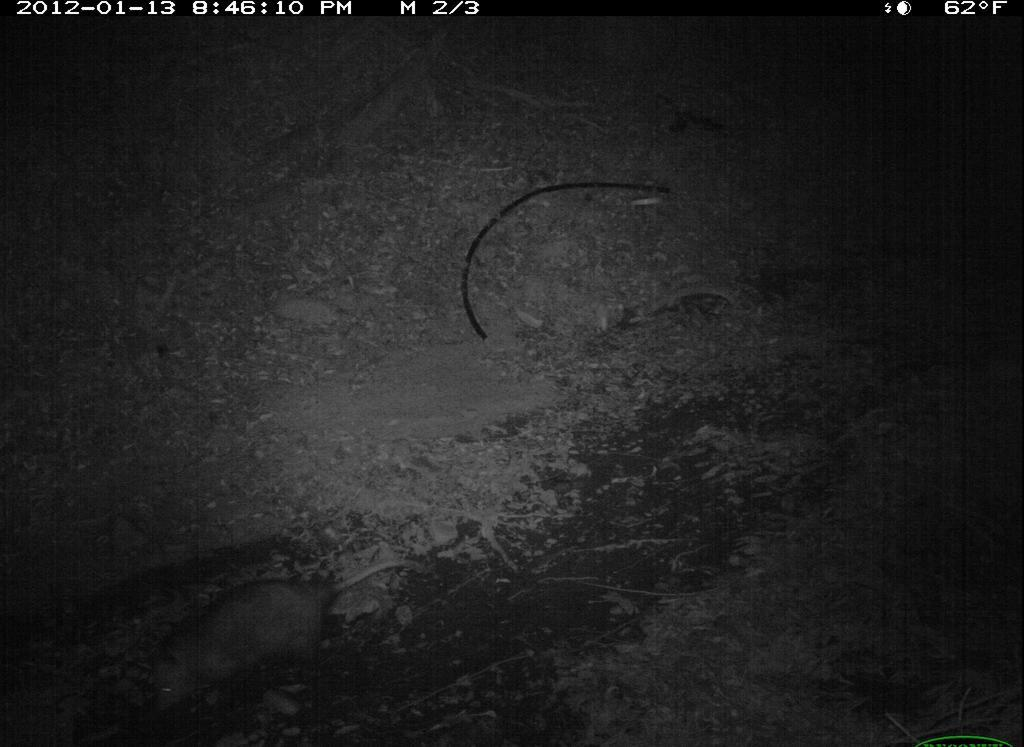opossum: (118, 546, 419, 729)
